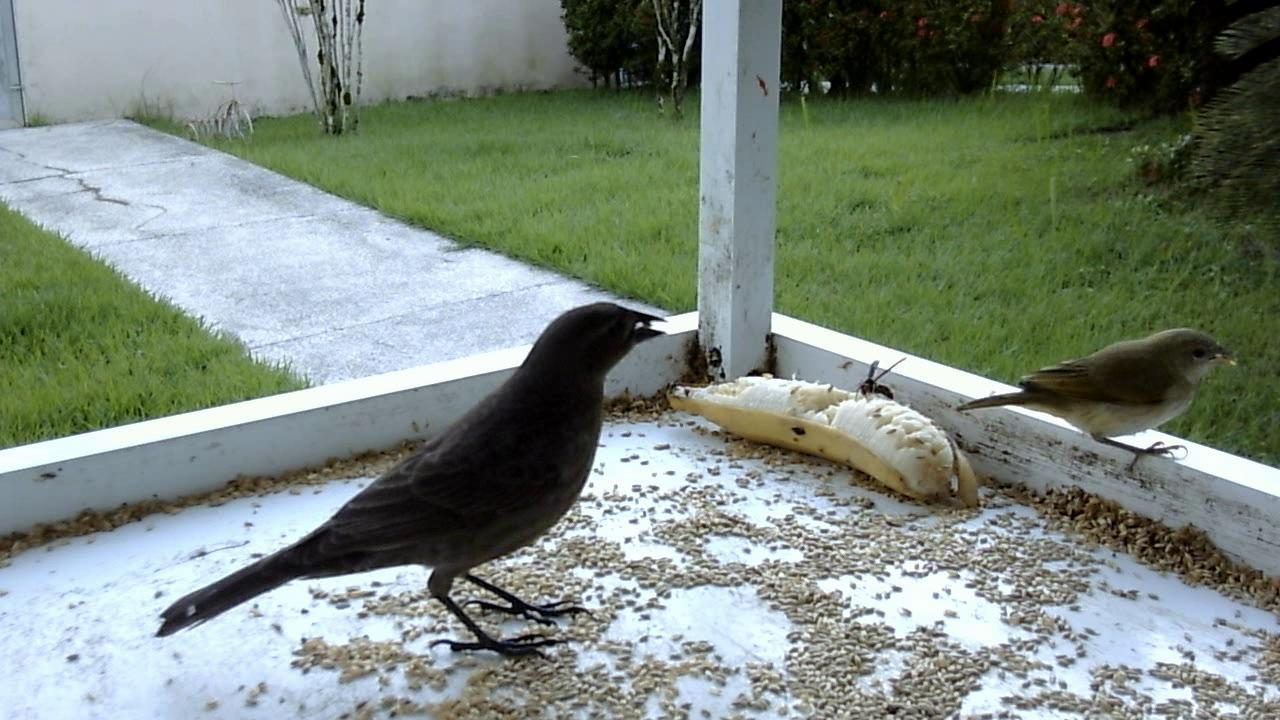canario_do_amazonas: (953, 318, 1245, 483)
chupim: (151, 291, 673, 680)
